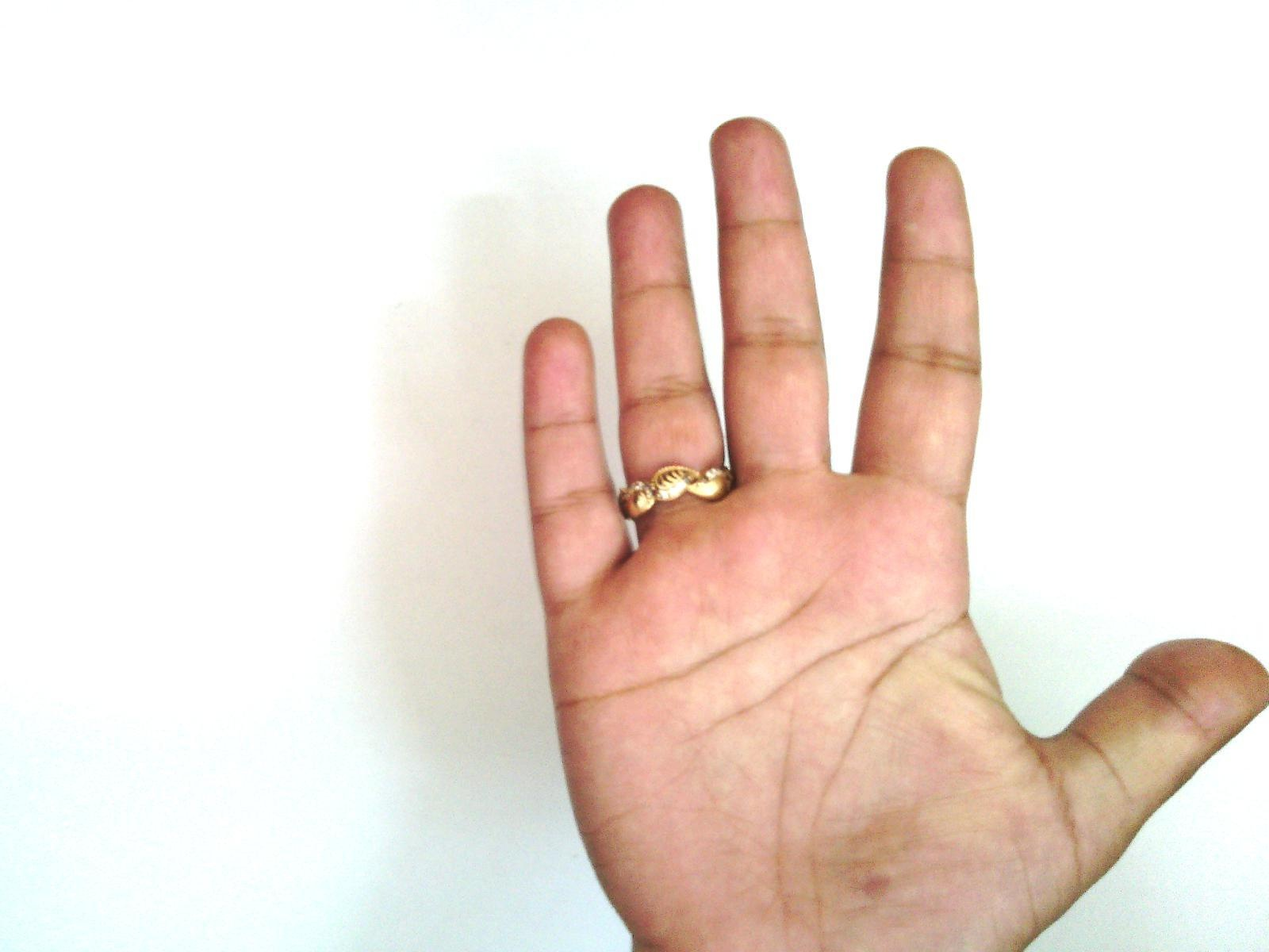open_palm: (516, 116, 1267, 951)
